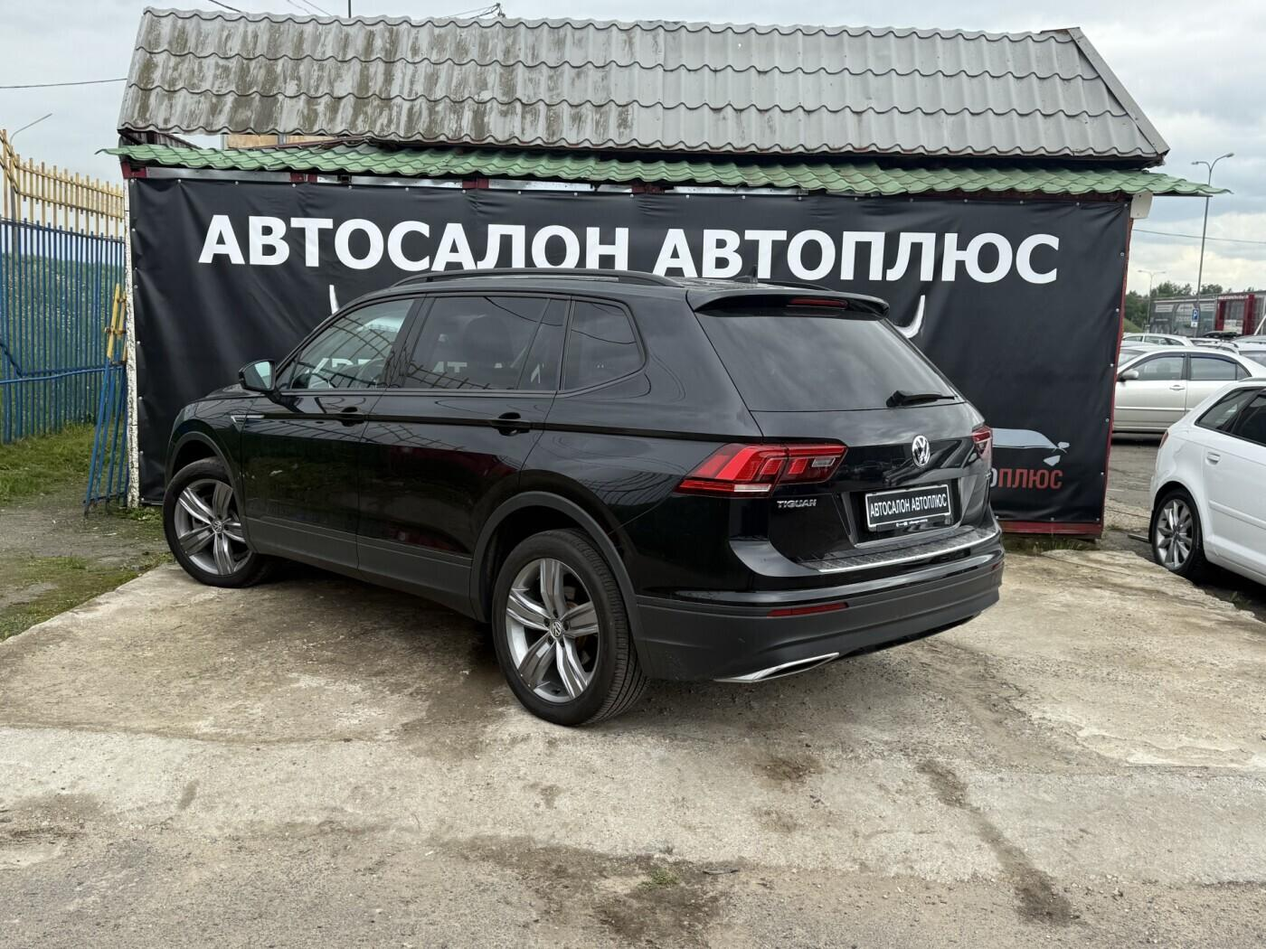Tiguan_2016-2021: (155, 266, 1010, 728)
